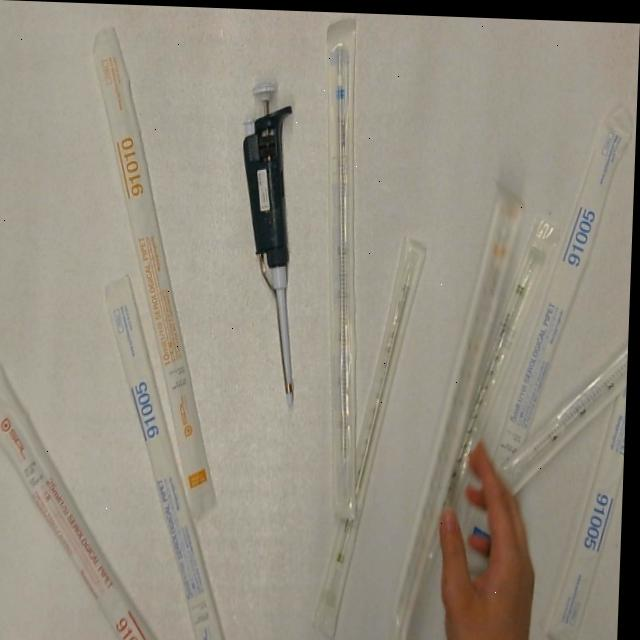Serelogical Pipet 10 mL - Sealed: (77, 23, 235, 519), (394, 171, 532, 628)
Serelogical Pipet 2 mL - Sealed: (392, 207, 566, 640), (313, 227, 432, 640)
Serelogical Pipet 25 mL - Sealed: (0, 349, 178, 640)
Serelogical Pipet 5 mL - Sealed: (473, 97, 634, 571), (93, 273, 242, 640), (312, 15, 376, 519), (500, 331, 630, 498), (547, 377, 629, 640)
Single Channel Pipettor: (231, 73, 312, 410)
